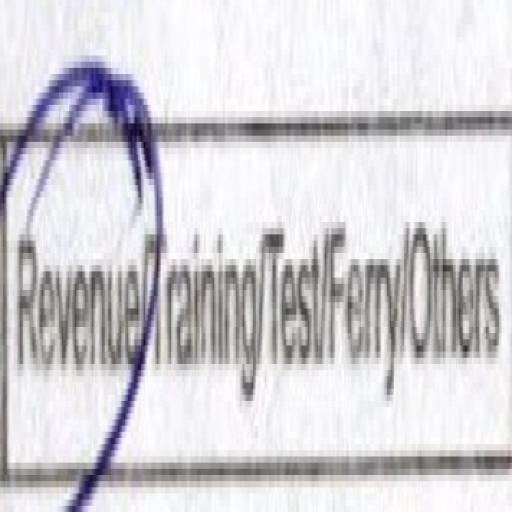check: (1, 2, 149, 512)
